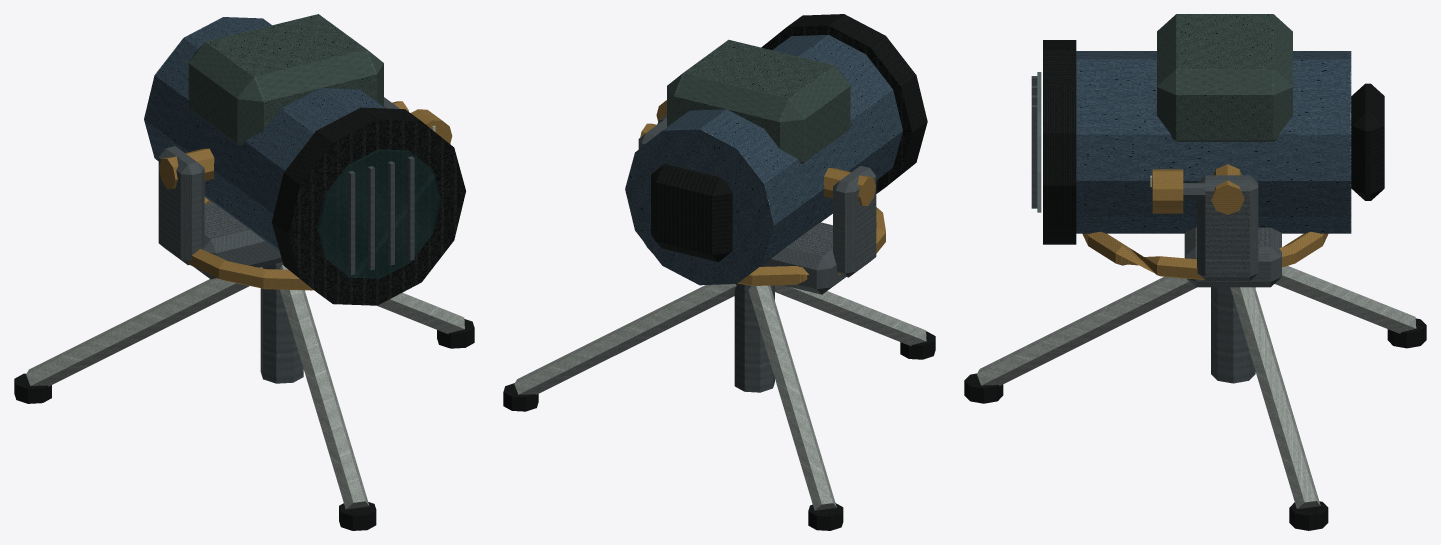
Rendered from blender_laser_grid_2_deployed.glb.
The picture shows the model from 3 angles, left to right: view 1: azimuth 30°, elevation 25°; view 2: azimuth 150°, elevation 25°; view 3: azimuth 270°, elevation 25°; orthographic projection. The views are drawn at different scales.
Visible parts, largest first — view 1: blender_laser_grid_2_deployed; view 2: blender_laser_grid_2_deployed; view 3: blender_laser_grid_2_deployed.
Part boxes in pixels (x1,y1,x2,y2): blender_laser_grid_2_deployed: (14,14,474,530); blender_laser_grid_2_deployed: (503,14,935,530); blender_laser_grid_2_deployed: (964,14,1426,530).
Size of the model in its own units: 0.1694 by 0.15 by 0.1662.
8 materials, 8 textured.
